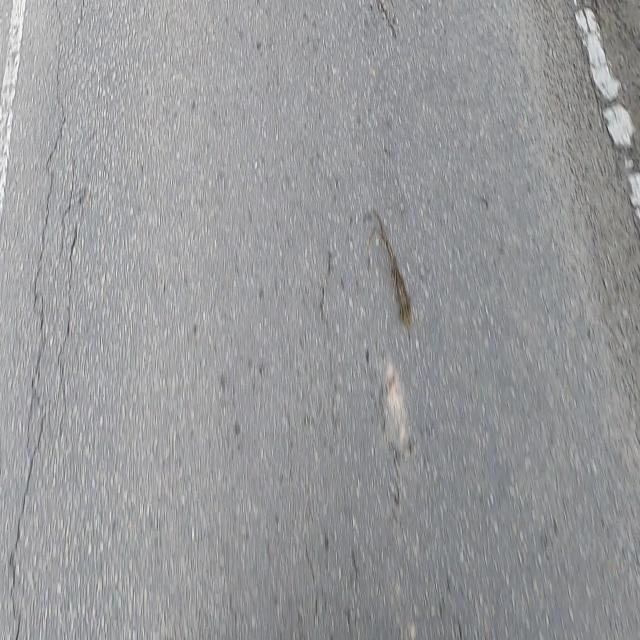Retak-Memanjang: (8, 53, 67, 640), (58, 213, 87, 422)
